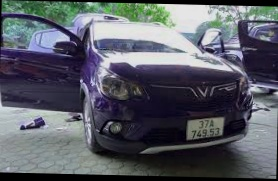Bien-so: (189, 111, 229, 139)
